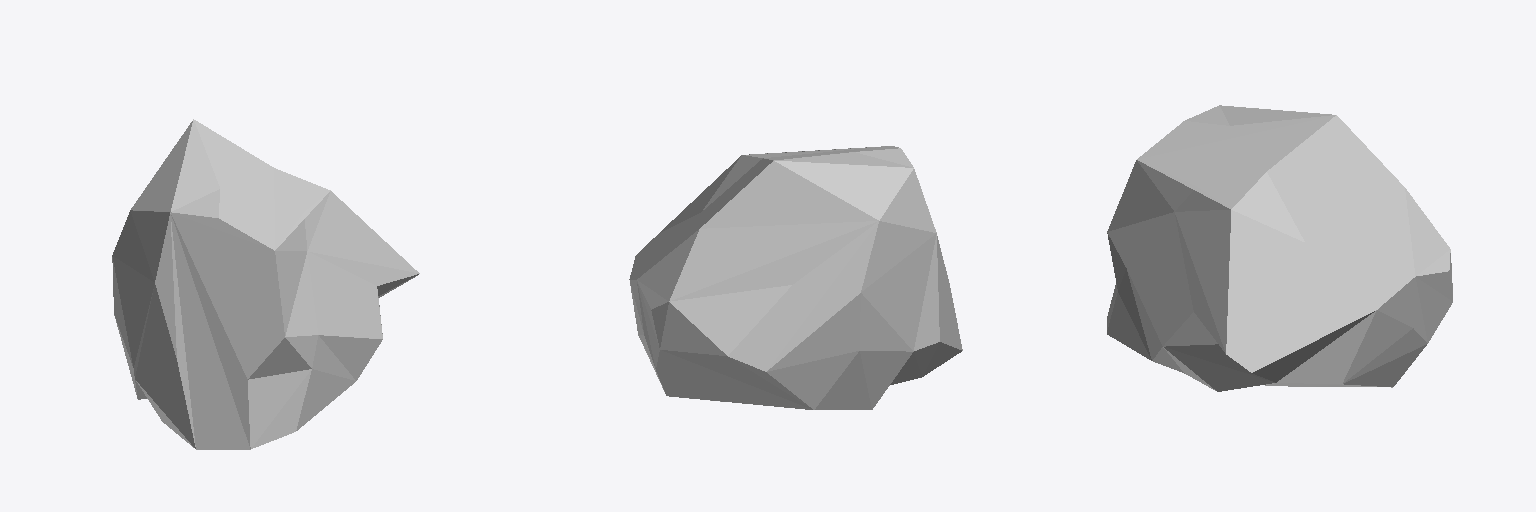
File: Rock1Complex.obj
3 renders of one model, left to right at view 1: azimuth 30°, elevation 25°; view 2: azimuth 150°, elevation 25°; view 3: azimuth 270°, elevation 25°, orthographic.
Parts seen in each view (by area): view 1: Rock_1_Icosphere.002; view 2: Rock_1_Icosphere.002; view 3: Rock_1_Icosphere.002.
Boxes of the visible parts, box(x1,y1,x2,y2) form: Rock_1_Icosphere.002: box(112, 119, 419, 449); Rock_1_Icosphere.002: box(629, 146, 962, 409); Rock_1_Icosphere.002: box(1107, 105, 1452, 391).
Size of the model in its own units: 9.1 by 7.39 by 9.33.